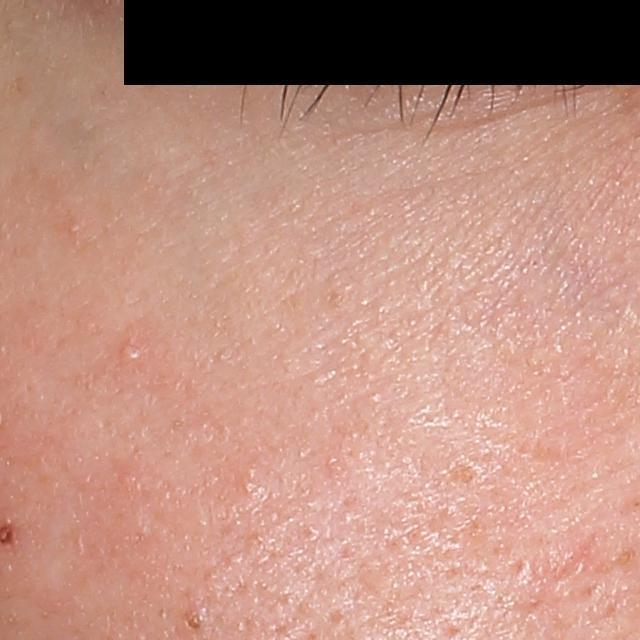comedo: (183, 608, 208, 633), (66, 221, 80, 235)
